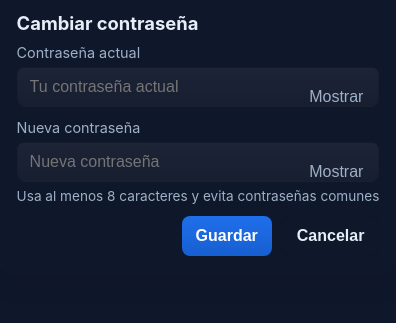
Test case: ChangePassword › shows error when user not found in db
Step 1. Type "oldpass" into the password field labelled "Contraseña actual" → coordinates (198, 87), box [17,67,379,107]
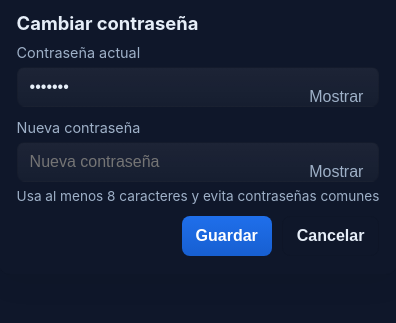
Step 2. Type "newpass123" into the password field labelled "Nueva contraseña" → coordinates (198, 162), box [17,142,379,182]
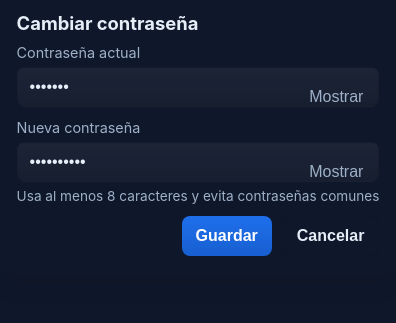
Step 3. Click the button "Guardar" → coordinates (227, 236), box [182,216,272,256]
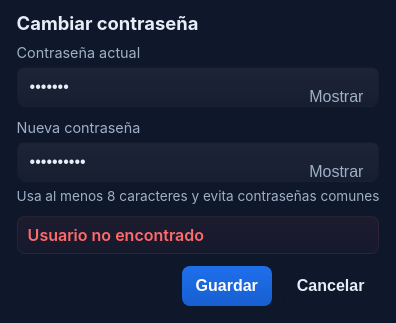
Result: the text "Usuario no encontrado" is shown at [17,216,379,254]
